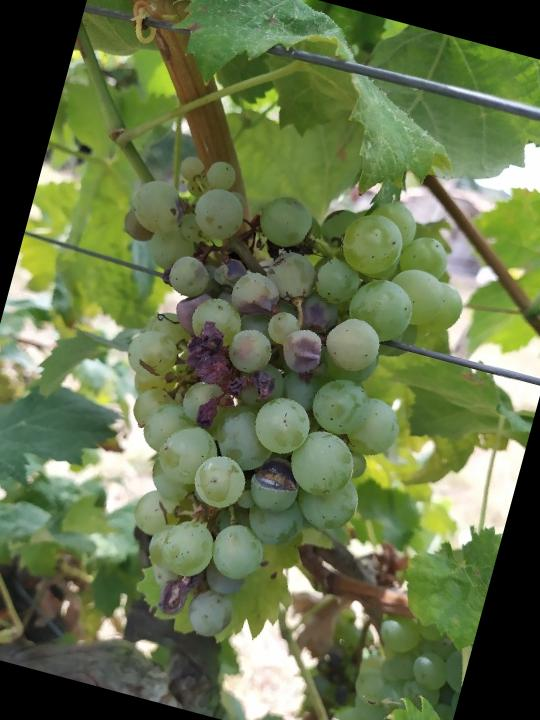grape: (25, 132, 489, 683)
